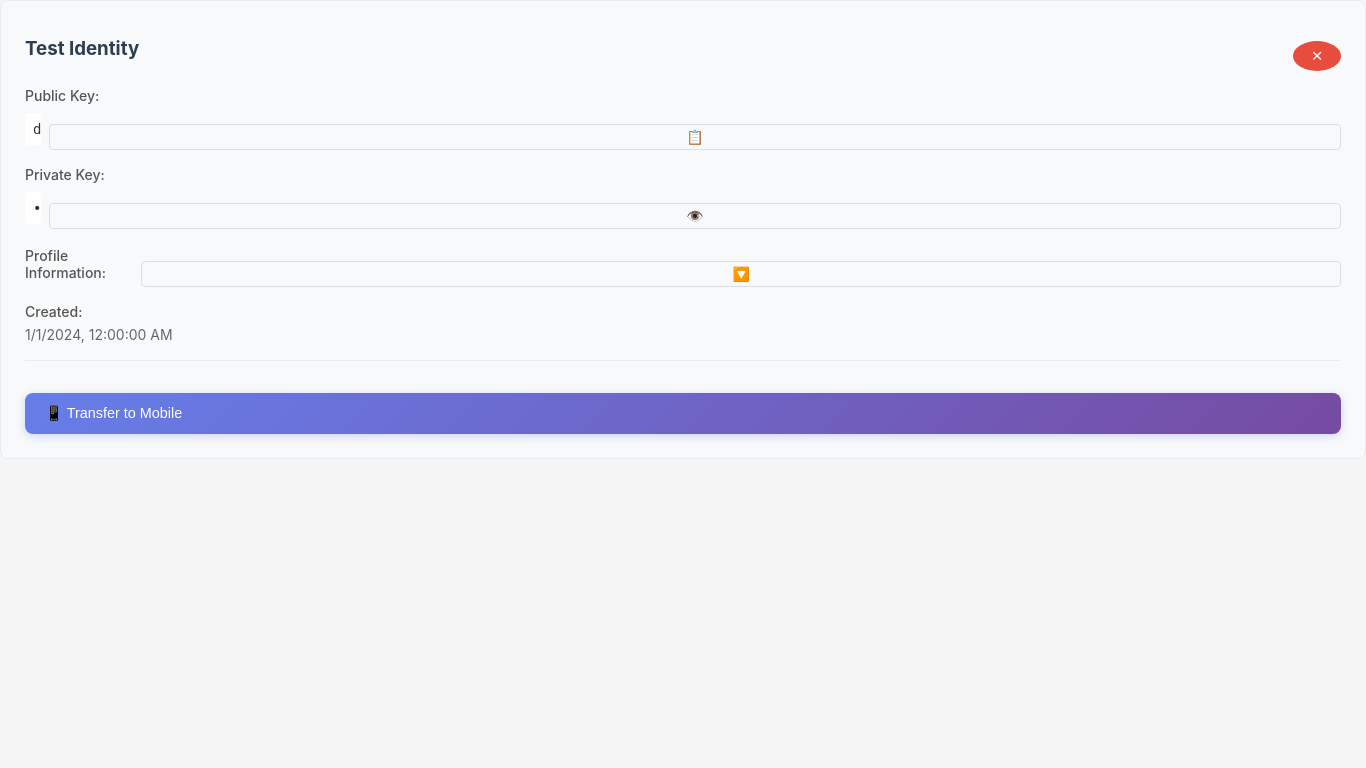
it: IdentityCard › formats different attribute types correctly
Check: the text "Profile Information:" is shown, box [25,247,106,281]
Note: Click to show attributes
What coordinates should you click on to do the following:
click the button "🔽"
I would click on:
 (741, 274)
Its box is [142,261,1341,287].
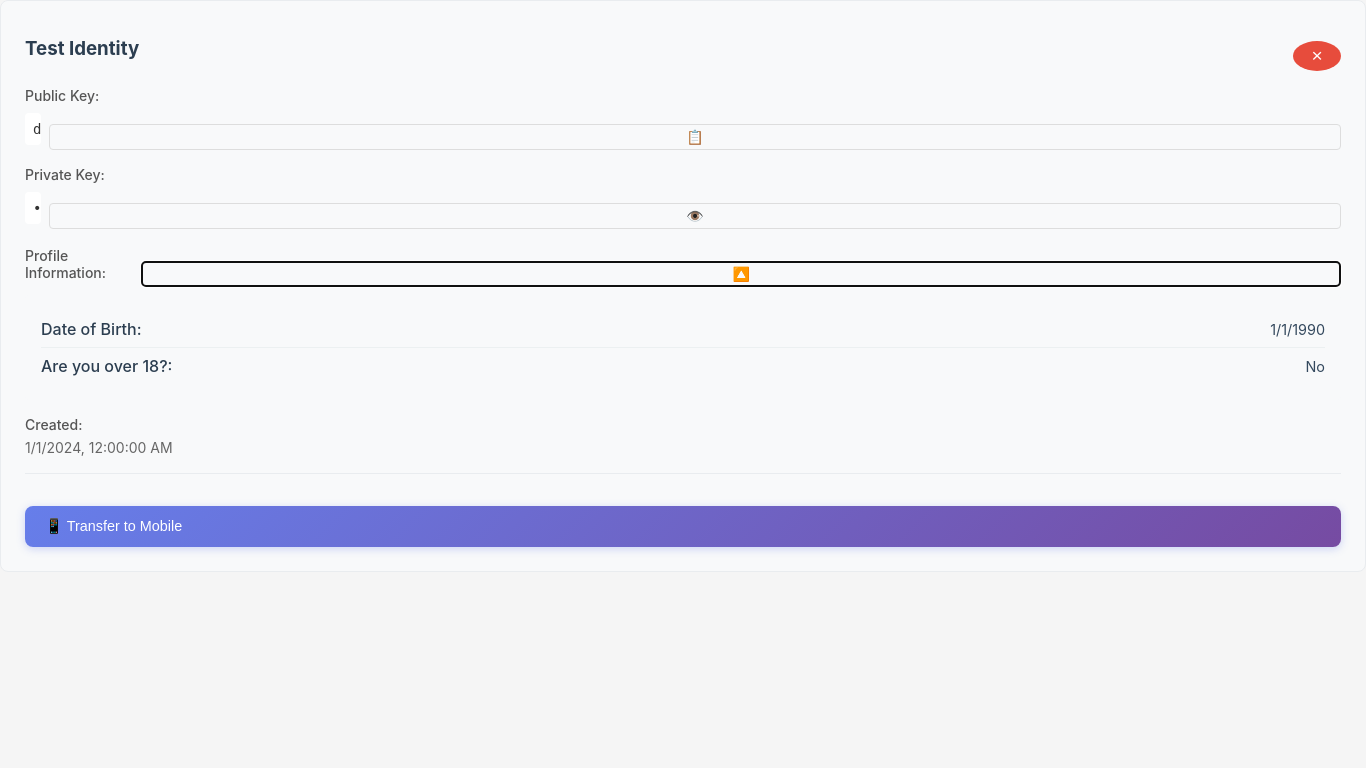
Check: the text "No" is shown, box [1306,358,1325,374]
